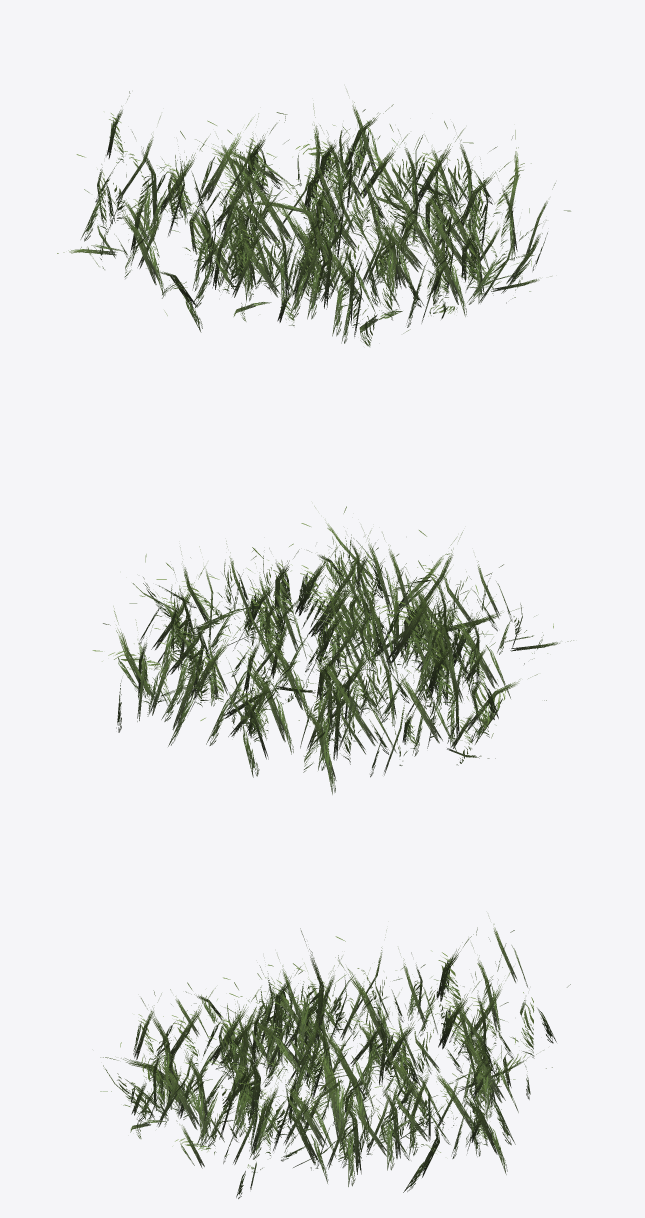
Rendered from grass_test.gltf.
3 renders of one model, top to bottom at view 1: azimuth 30°, elevation 25°; view 2: azimuth 150°, elevation 25°; view 3: azimuth 270°, elevation 25°, orthographic. The views are drawn at different scales.
Visible parts, largest first — view 1: Object_2; view 2: Object_2; view 3: Object_2.
Part boxes in pixels (x1,y1,x2,y2): Object_2: (57,89,570,346); Object_2: (92,506,573,794); Object_2: (100,915,570,1198).
Bounding box in the file's own units: 10.53 × 4.86 × 10.88.
1 material, 1 textured.
